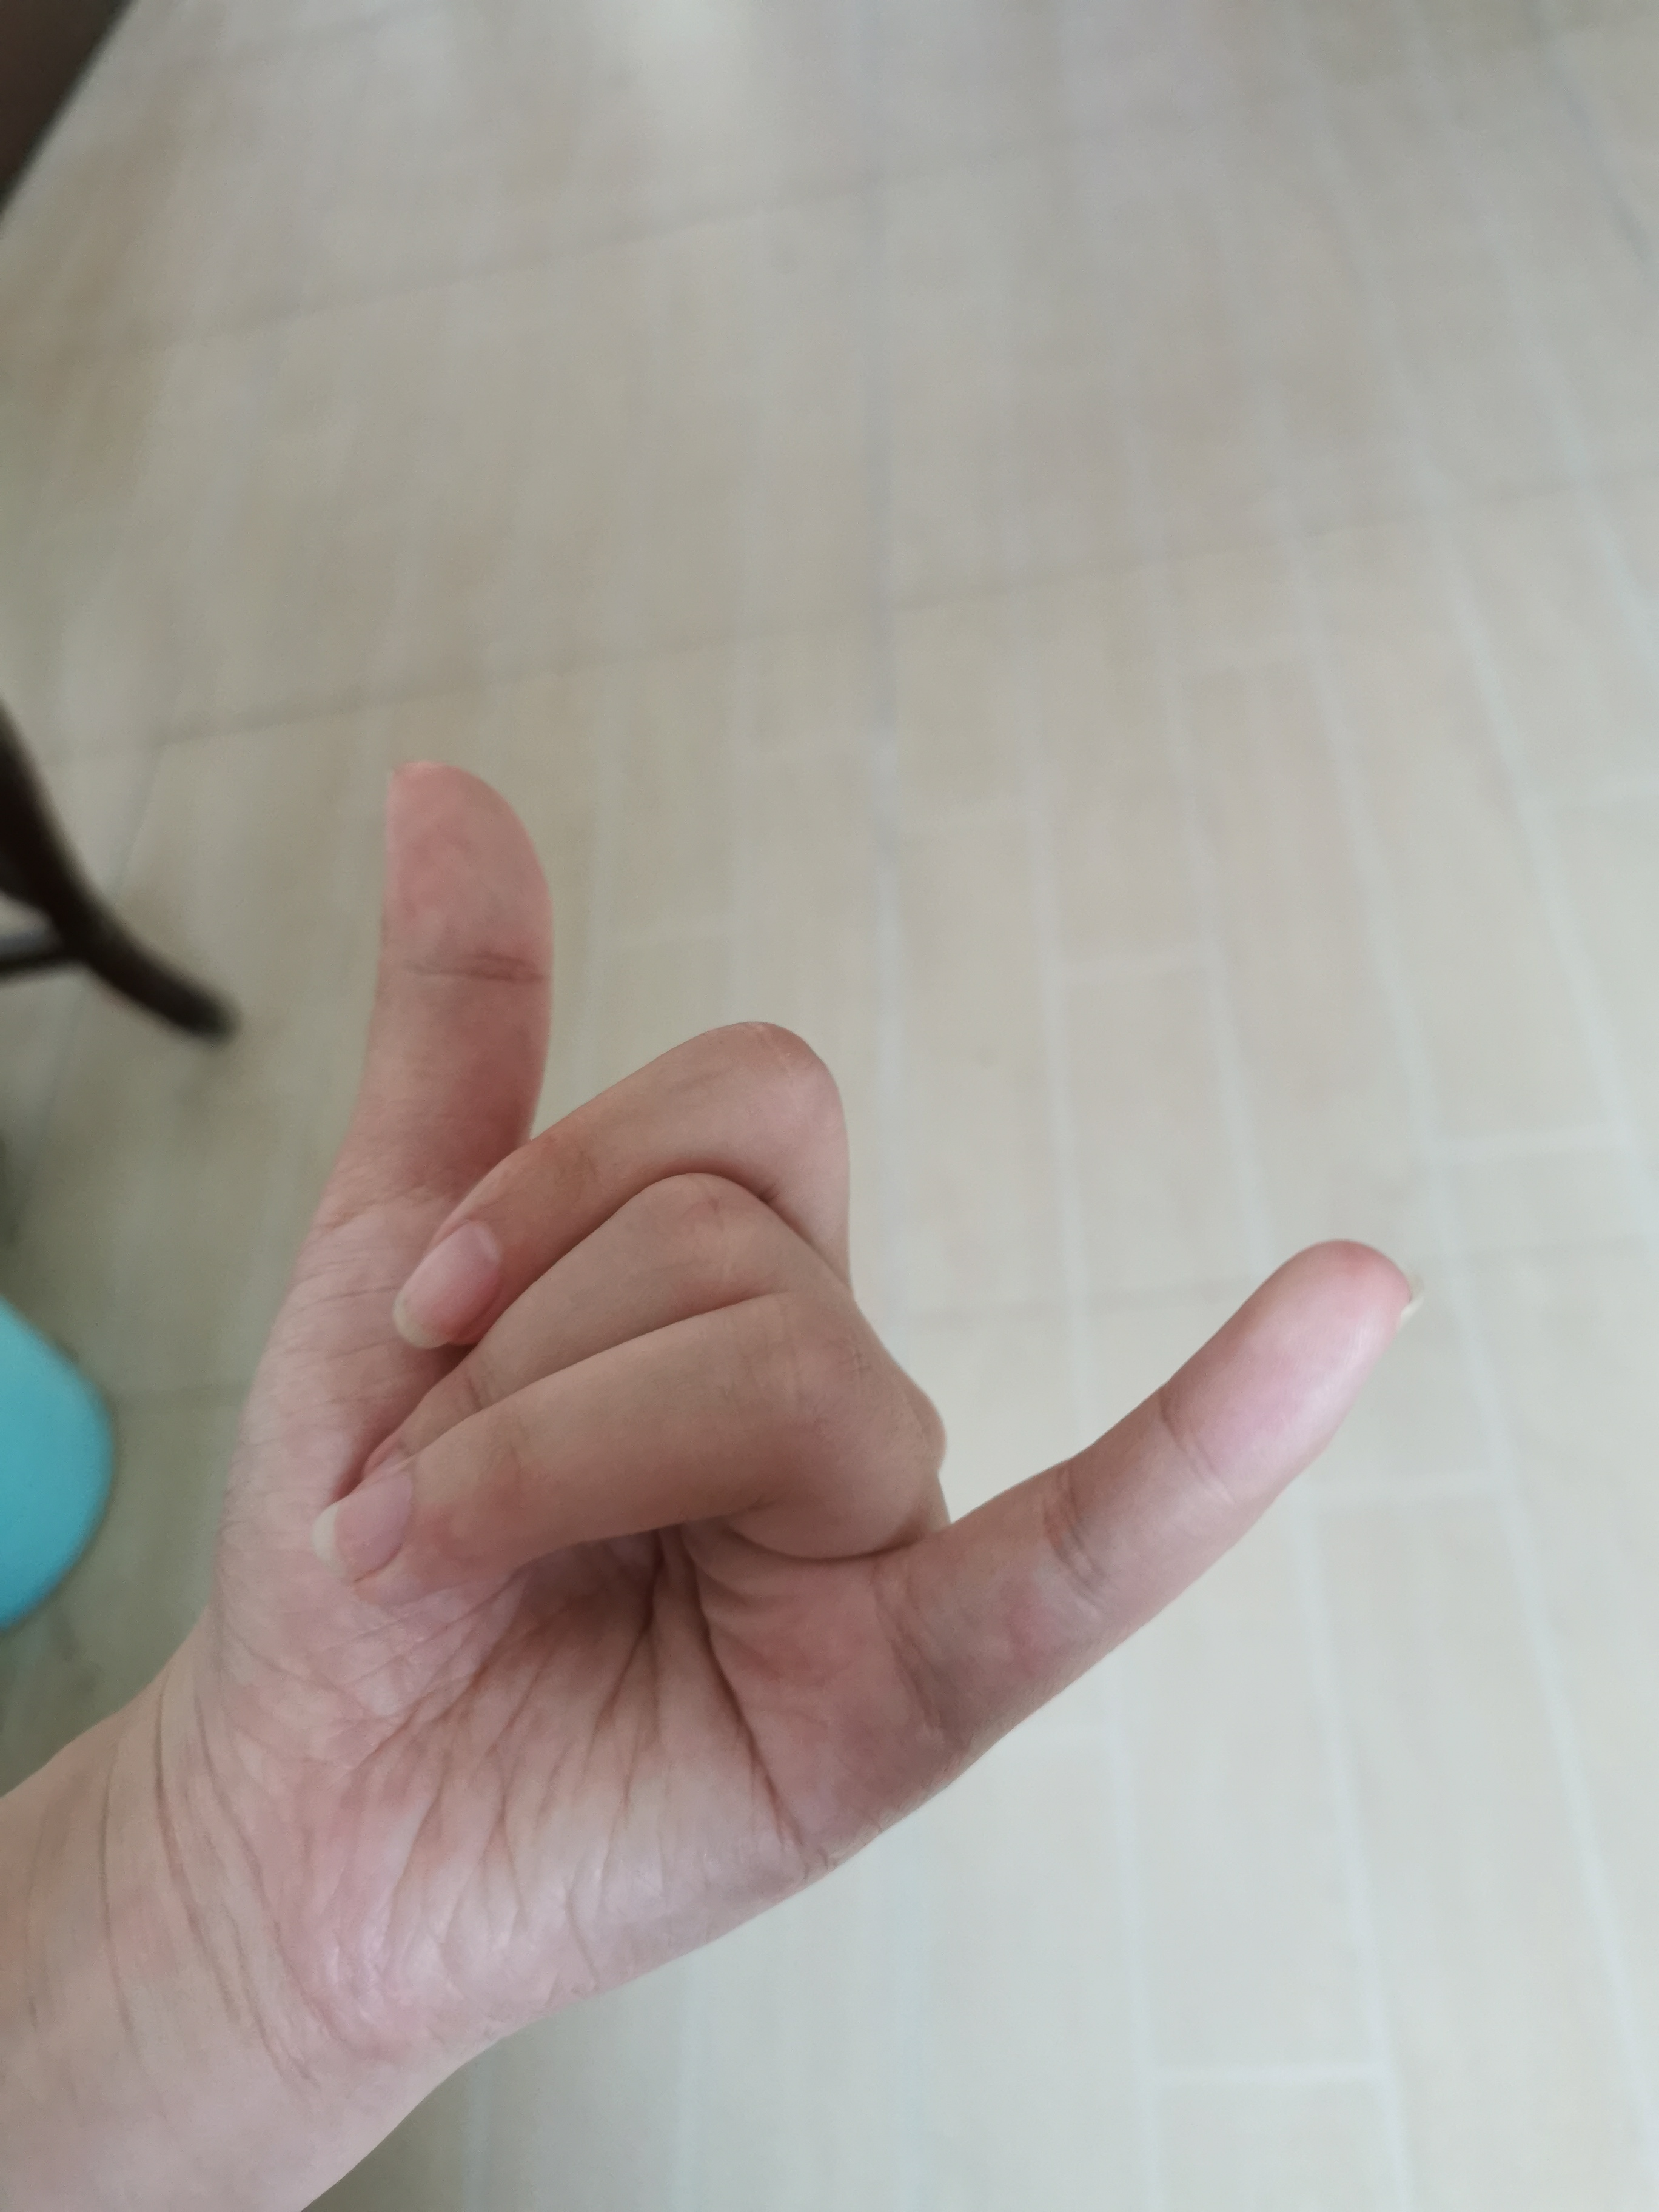clockwise: (164, 752, 1422, 2006)
